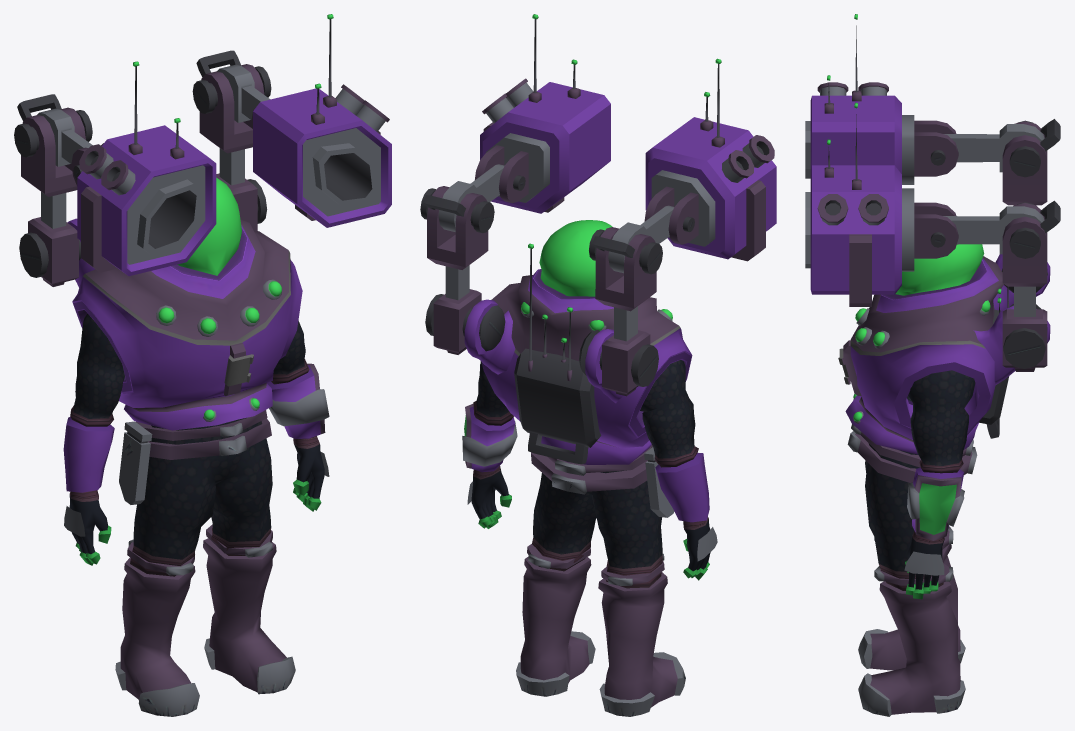
File: EngiPrefab.fbx
3 views of the same model, side by side, from view 1: azimuth 30°, elevation 25°; view 2: azimuth 150°, elevation 25°; view 3: azimuth 270°, elevation 25° (orthographic). The views are drawn at different scales.
Visible parts, largest first — view 1: EngiPrefab; view 2: EngiPrefab; view 3: EngiPrefab.
Part boxes in pixels (left/top/right/bottom): EngiPrefab: left=14, top=14, right=391, bottom=716; EngiPrefab: left=420, top=14, right=776, bottom=716; EngiPrefab: left=805, top=14, right=1060, bottom=716.
Size of the model in its own units: 113 by 250 by 92.78.
